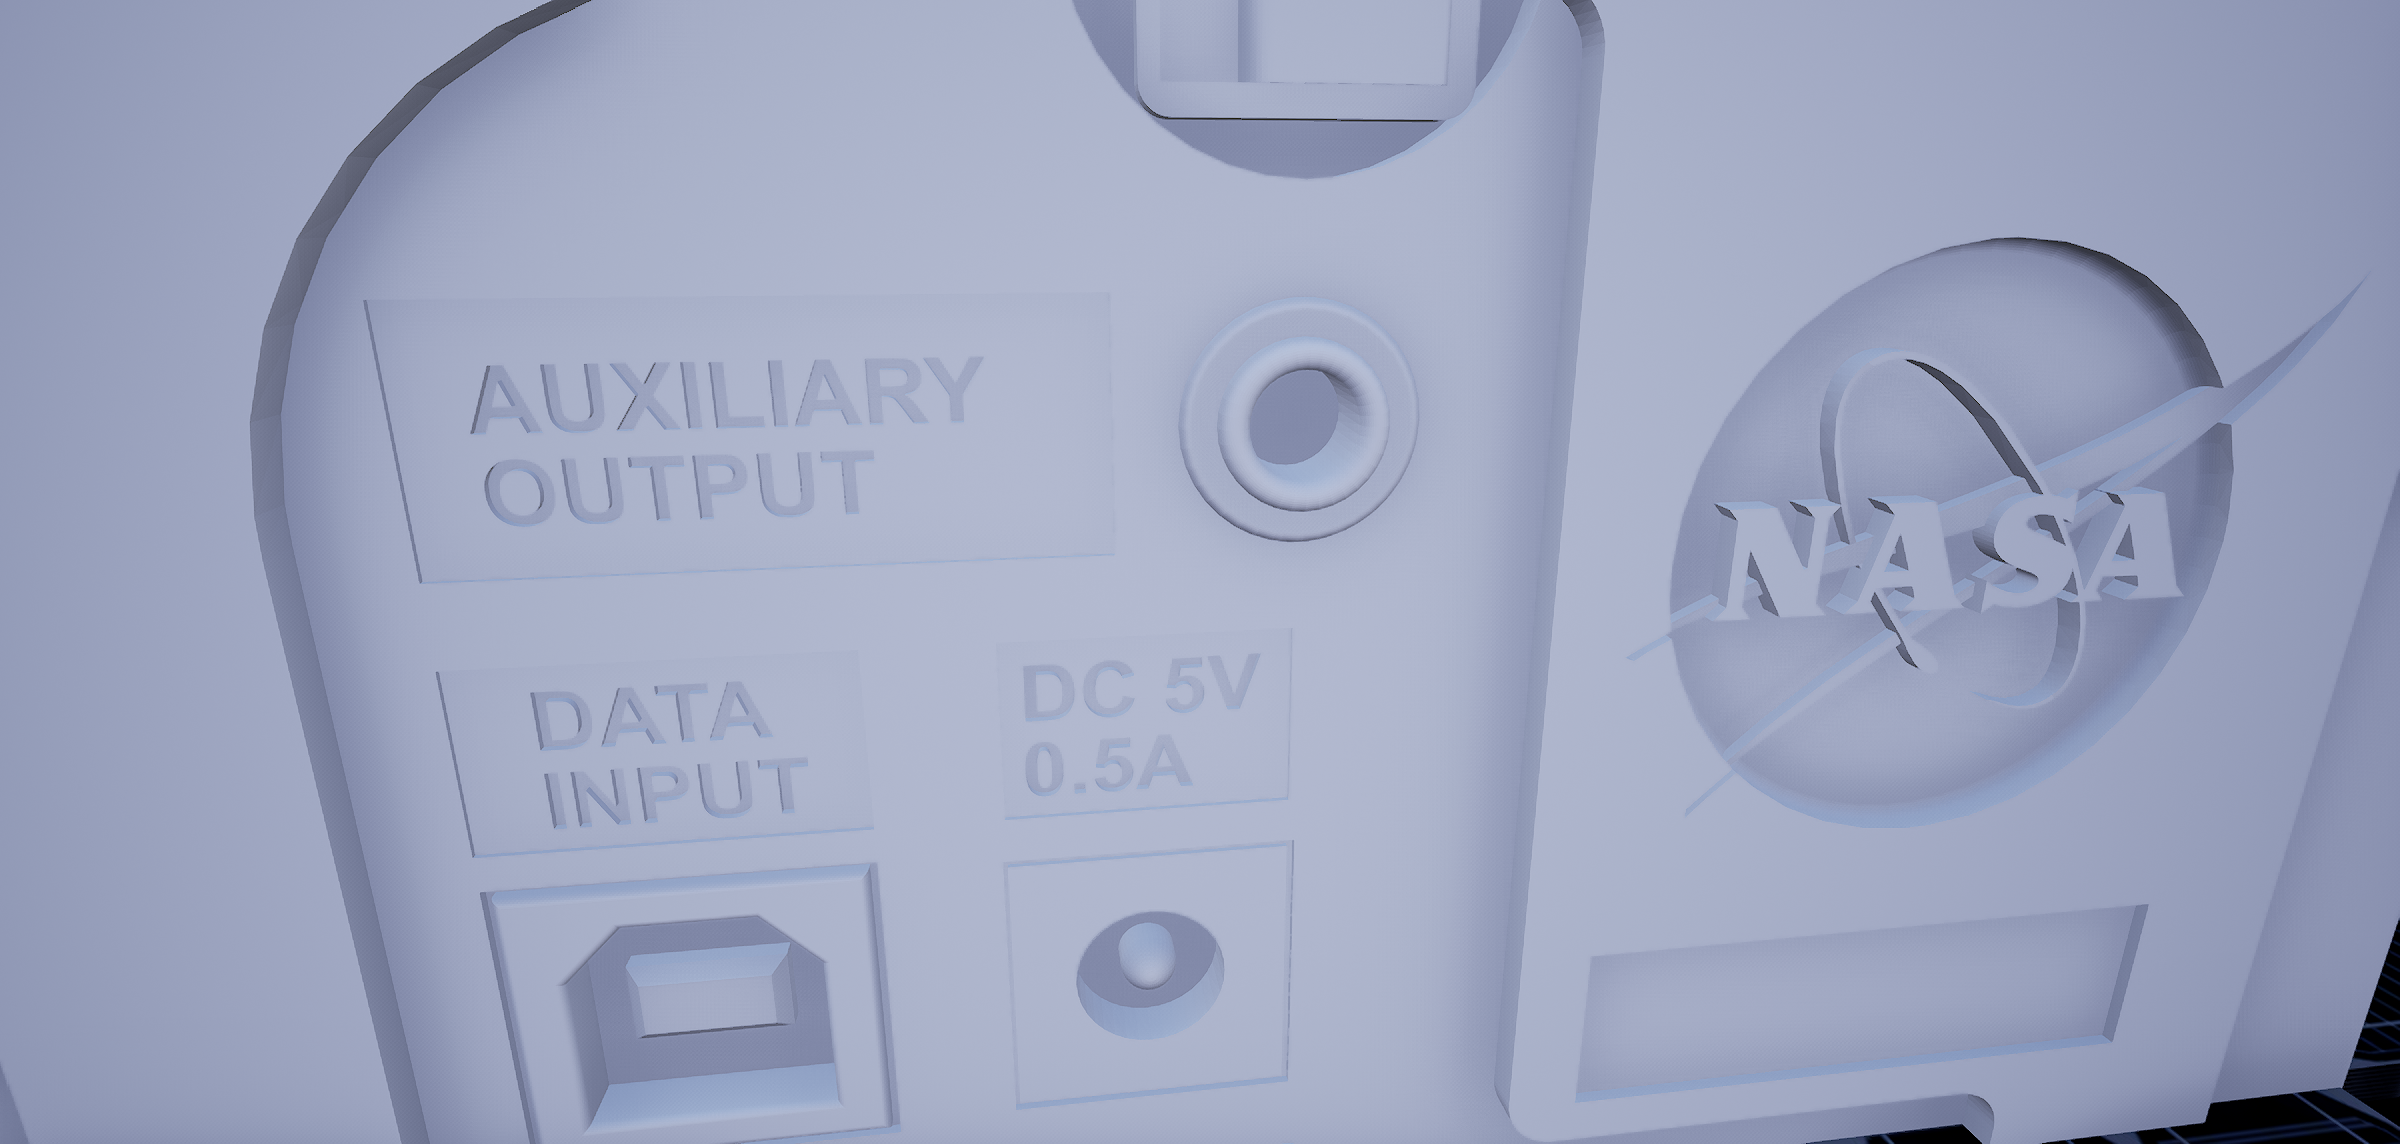aux: (1168, 282, 1446, 567)
dc: (1058, 902, 1260, 1052)
usb: (542, 910, 865, 1133)
